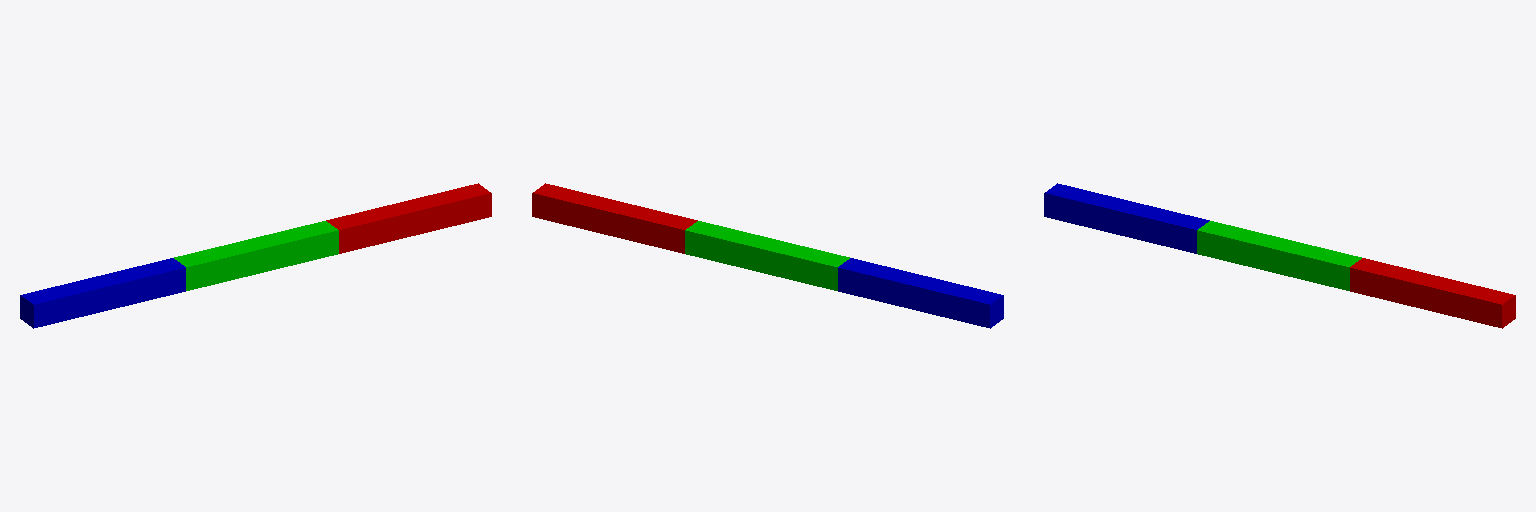
URDF robot description (2link_robot):
<!-- This URDF is modified from the original source of https://github.com/tanay-bits/twolink/blob/master/urdf/2link_robot.urdf -->

<robot name="2link_robot">

	<!-- Body Colors -->
	<material name="blue">
		<color rgba="0 0 0.8 1"/>
	</material>
	<material name="green">
		<color rgba="0 0.8 0 1"/>
	</material>
	<material name="red">
		<color rgba="0.8 0 0 1"/>
	</material>

	<!-- Base -->
	<link name="base"/>

	<!-- Arm 1 -->
	<link name="arm_1">
		<visual>
			<geometry>
				<box size="1 .15 .15"/>
			</geometry>
			<origin rpy="0 0 0" xyz="0.5 0 0"/>
			<material name="blue"/>
		</visual>
		<collision>
			<geometry>
				<box size="1 .15 .15"/>
			</geometry>
			<origin rpy="0 0 0" xyz="0.5 0 0"/>
		</collision>
	</link>

	<joint name="joint_1" type="revolute">
		<axis rpy="0 0 0" xyz="0 0 1"/>
		<limit effort="500.0" lower="0.0" upper="6.2" velocity="3.0"/>
		<parent link="base"/>
		<child link="arm_1"/>
	</joint>

	<!-- Arm 2 -->
	<link name="arm_2">
		<visual>
			<geometry>
				<box size="1 .15 .15"/>
			</geometry>
			<origin rpy="0 0 0" xyz="0.5 0 0"/>
			<material name="green"/>
		</visual>
		<collision>
			<geometry>
				<box size="1 .15 .15"/>
			</geometry>
			<origin rpy="0 0 0" xyz="0.5 0 0"/>
		</collision>
	</link>

	<joint name="joint_2" type="revolute">
		<axis rpy="0 0 0" xyz="0 0 1"/>
		<limit effort="500.0" lower="0.0" upper="6.2" velocity="3.0"/>
		<parent link="arm_1"/>
		<child link="arm_2"/>
		<origin rpy="0 0 0" xyz="1 0 0"/>
	</joint>

	<!-- Arm 3 -->
	<link name="arm_3">
		<visual>
			<geometry>
				<box size="1 .15 .15"/>
			</geometry>
			<origin rpy="0 0 0" xyz="0.5 0 0"/>
			<material name="red"/>
		</visual>
		<collision>
			<geometry>
				<box size="1 .15 .15"/>
			</geometry>
			<origin rpy="0 0 0" xyz="0.5 0 0"/>
		</collision>
	</link>

	<joint name="joint_3" type="revolute">
		<axis rpy="0 0 0" xyz="0 0 1"/>
		<limit effort="500.0" lower="0.0" upper="6.2" velocity="3.0"/>
		<parent link="arm_2"/>
		<child link="arm_3"/>
		<origin rpy="0 0 0" xyz="1 0 0"/>
	</joint>

	<!-- End Effector -->
	<link name="end_effector"/>

	<joint name="ee_joint" type="fixed">
		<parent link="arm_3"/>
		<child link="end_effector"/>
		<origin rpy="0 0 0" xyz="1 0 0"/>
	</joint>

</robot>

--- What the picture shows (computed from the rendered views, not written in the file) ---
3 views of the same robot in one strip: view 1: azimuth 30°, elevation 25°; view 2: azimuth 150°, elevation 25°; view 3: azimuth 330°, elevation 25° (orthographic).
Robot: 2link_robot — 5 links, 4 joints (3 revolute, 1 fixed); root link base; default pose: every joint at zero.
Visible links, largest first — view 1: arm_1, arm_3, arm_2; view 2: arm_1, arm_3, arm_2; view 3: arm_3, arm_1, arm_2.
Boxes of the visible links, x1,y1,x2,y2 form: arm_1: (20,258,185,328); arm_3: (326,183,491,253); arm_2: (174,221,338,290); arm_1: (838,258,1003,328); arm_3: (532,183,697,253); arm_2: (685,221,849,290); arm_3: (1350,258,1515,328); arm_1: (1044,183,1209,253); arm_2: (1197,221,1361,290).
Size in the robot's own frame: 3 by 0.15 by 0.15 metres.
Geometry: primitives only (box / cylinder / sphere), no mesh files.
